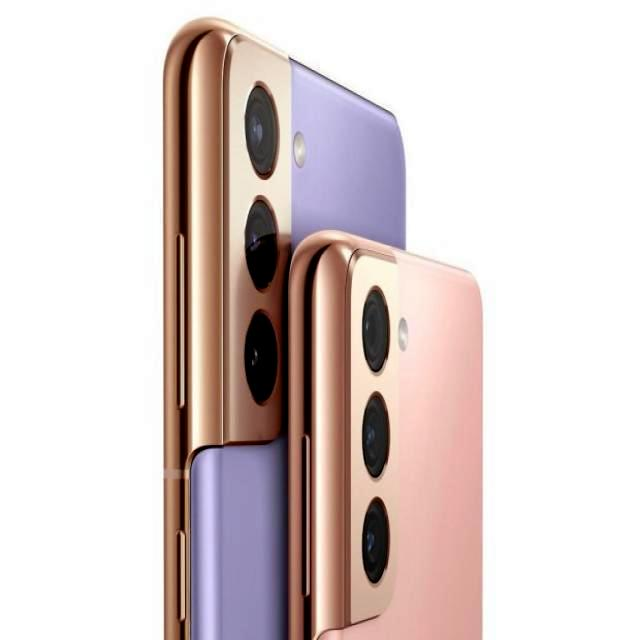lens_back: (234, 78, 284, 181), (241, 191, 281, 297), (241, 307, 279, 408), (358, 284, 396, 376), (361, 494, 394, 586), (361, 389, 392, 483)
